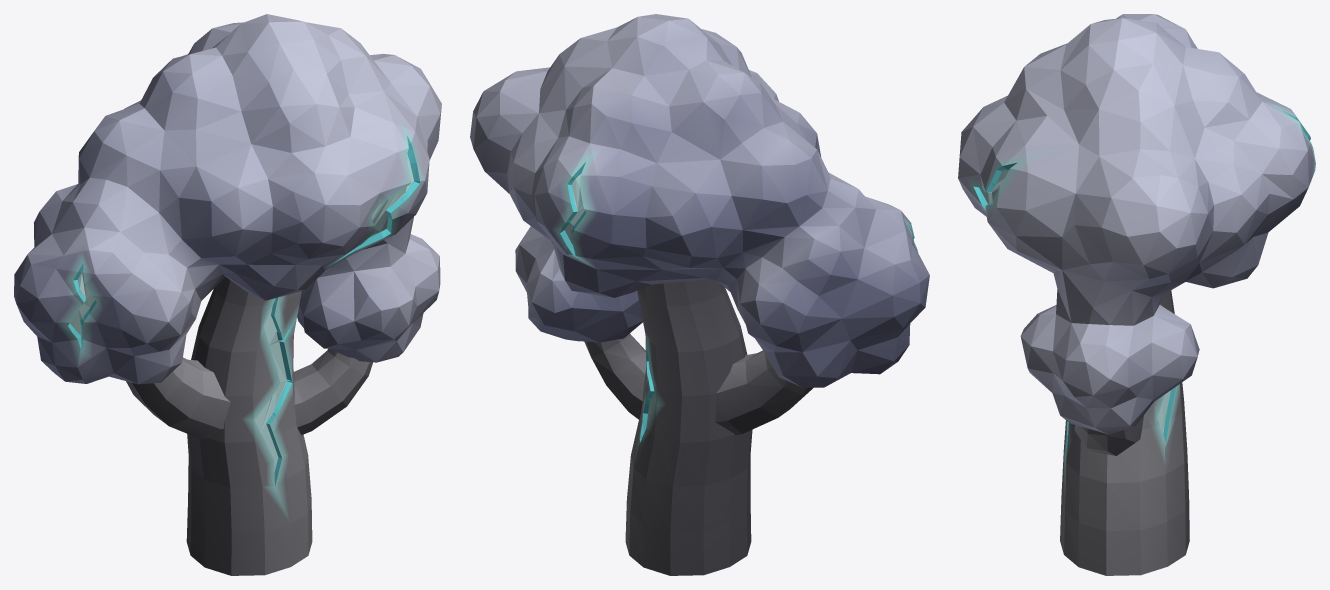
File: Stormwood_Tree_Remake_v7.glb
3 views of the same model, side by side, from view 1: azimuth 30°, elevation 25°; view 2: azimuth 150°, elevation 25°; view 3: azimuth 270°, elevation 25° (orthographic). The views are drawn at different scales.
Visible parts, largest first — view 1: Stormwood_Remake; view 2: Stormwood_Remake; view 3: Stormwood_Remake.
Boxes of the visible parts, x1,y1,x2,y2 form: Stormwood_Remake: (14,14,441,575); Stormwood_Remake: (470,14,929,575); Stormwood_Remake: (958,14,1315,575).
Bounding box in the file's own units: 11.01 × 12.81 × 7.7.
